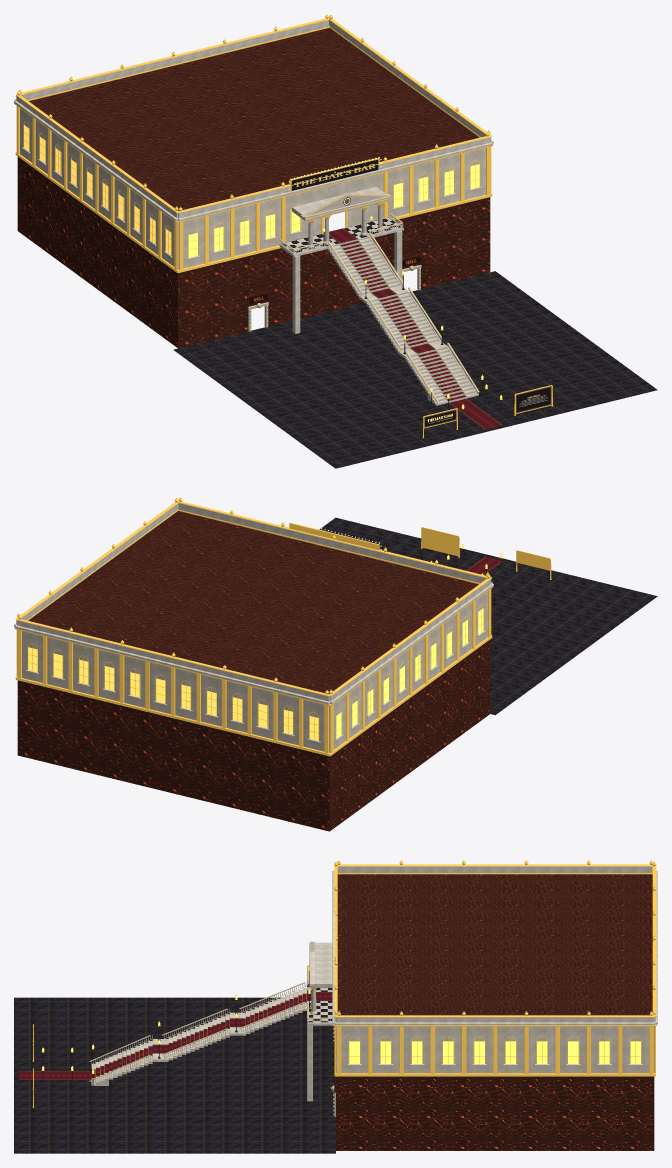
The model's file is lb4_outside.glb.
The picture shows the model from 3 angles, top to bottom: view 1: azimuth 30°, elevation 25°; view 2: azimuth 150°, elevation 25°; view 3: azimuth 270°, elevation 25°; orthographic projection.
Parts seen in each view (by area): view 1: lb4_outside; view 2: lb4_outside; view 3: lb4_outside.
Boxes of the visible parts, x1,y1,x2,y2 form: lb4_outside: [14, 14, 657, 468]; lb4_outside: [14, 497, 657, 831]; lb4_outside: [14, 860, 657, 1153].
Size of the model in its own units: 76 by 32.33 by 133.
Materials: 18 (12 with a texture image).
